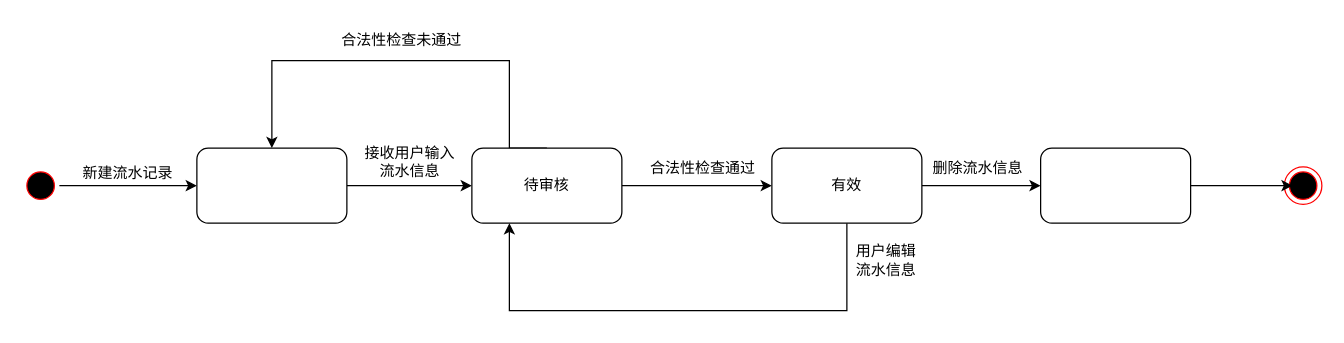
The diagram is 1344 pixels wide and 343 high, and some of its shapes have lost their labels. The shapes that lost their labels are listed below. From the top down, each one's centre as x and y in pixels, then its label:
(x=271, y=185): 未初始化
(x=1115, y=185): 失效
